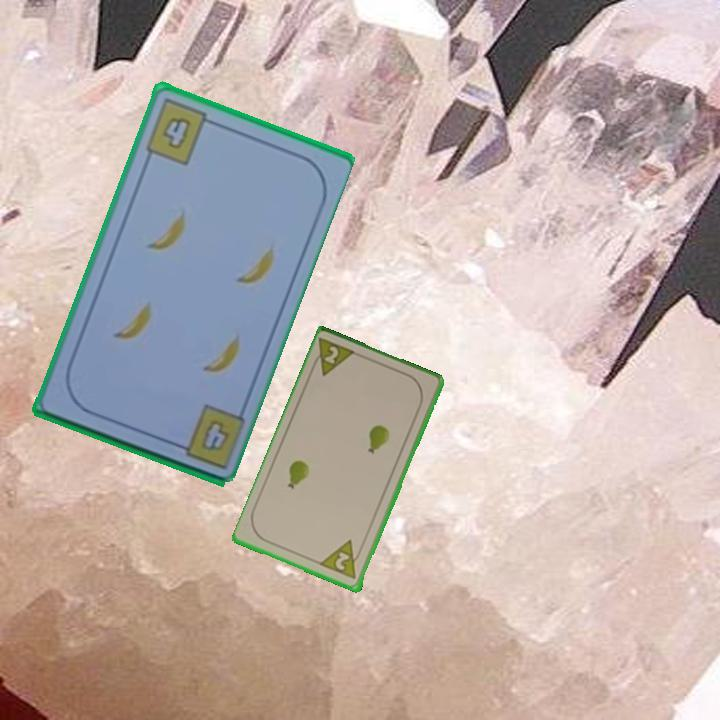2p: (307, 335, 360, 380), (318, 537, 367, 583)
4b: (141, 95, 219, 168), (197, 415, 232, 454)
